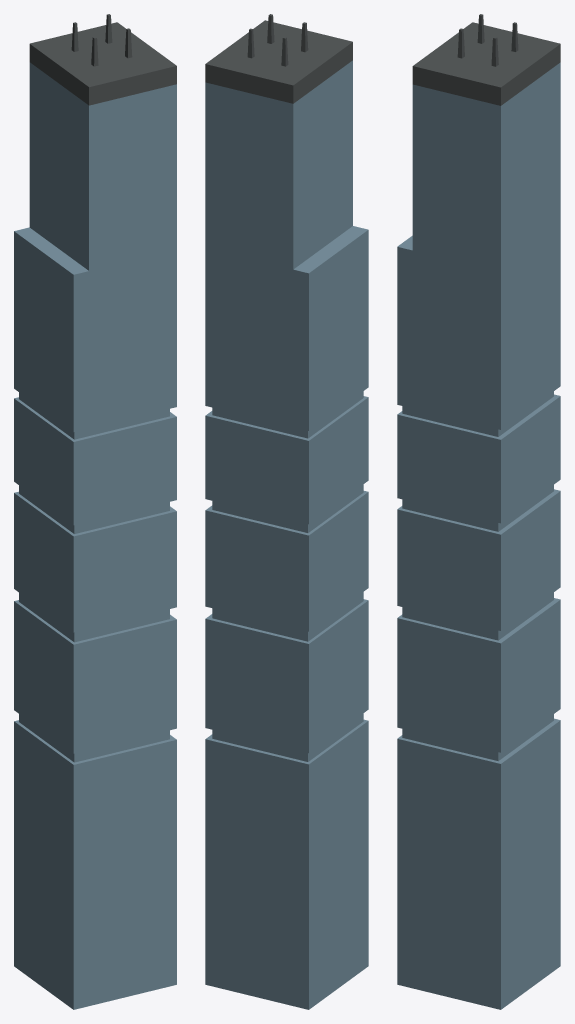
The model's file is Scyskraper_00.fbx.
The picture shows the model from 3 angles, left to right: view 1: azimuth 30°, elevation 25°; view 2: azimuth 150°, elevation 25°; view 3: azimuth 330°, elevation 25°; orthographic projection.
Visible parts, largest first — view 1: Cube; view 2: Cube; view 3: Cube.
Part boxes in pixels (x1,y1,x2,y2): Cube: (14, 14, 176, 1009); Cube: (205, 14, 368, 1009); Cube: (397, 14, 560, 1009).
Bounding box in the file's own units: 2 × 2 × 17.51.
